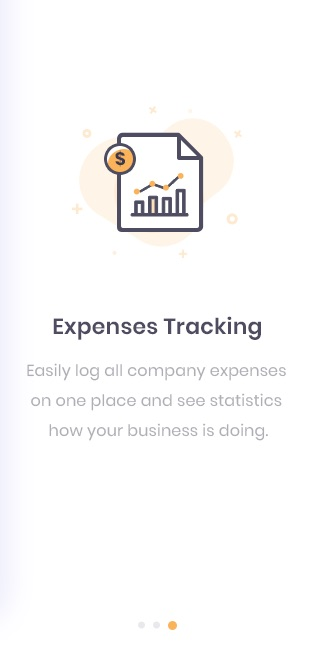Image: (72, 106, 243, 259)
PageIndicator: (137, 621, 178, 631)
Text: (27, 363, 287, 442), (53, 317, 262, 341)
